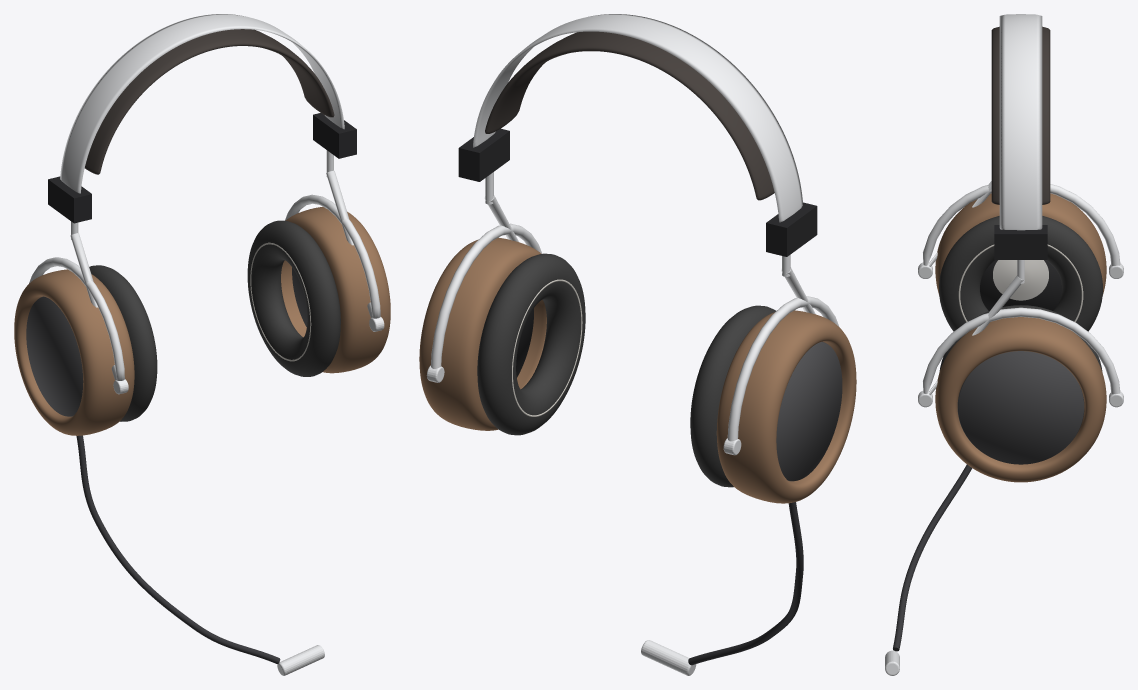
Rendered from one-high.glb.
3 views of the same model, side by side, from view 1: azimuth 30°, elevation 25°; view 2: azimuth 150°, elevation 25°; view 3: azimuth 270°, elevation 25° (orthographic). The views are drawn at different scales.
Parts seen in each view (by area): view 1: cup_l, pad_r, cup_r, band_steel, band_leather, grille_l, pad_l, cable, yoke_r, yoke_l, block_l, block_r (+1 smaller); view 2: cup_l, pad_r, cup_r, band_steel, band_leather, grille_l, pad_l, yoke_r, yoke_l, block_l, block_r, cable (+1 smaller); view 3: grille_r, cup_r, band_steel, pad_l, cup_l, band_leather, yoke_r, yoke_l, block_r, driver_l, baffle_l, cable (+2 smaller).
Boxes of the visible parts, <box> form: cup_l: <box>14,269,134,435</box>; pad_r: <box>247,220,340,376</box>; cup_r: <box>281,207,390,373</box>; band_steel: <box>60,14,344,193</box>; band_leather: <box>85,29,334,174</box>; grille_l: <box>26,296,83,416</box>; pad_l: <box>89,265,157,421</box>; cable: <box>76,435,280,663</box>; yoke_r: <box>285,170,380,318</box>; yoke_l: <box>29,233,124,380</box>; block_l: <box>48,176,91,223</box>; block_r: <box>313,113,356,158</box>; cup_l: <box>716,310,856,503</box>; pad_r: <box>477,253,585,435</box>; cup_r: <box>419,237,546,430</box>; band_steel: <box>473,14,802,222</box>; band_leather: <box>485,31,774,200</box>; grille_l: <box>776,341,842,481</box>; pad_l: <box>690,305,775,487</box>; yoke_r: <box>431,195,542,368</box>; yoke_l: <box>727,267,839,441</box>; block_l: <box>766,202,817,256</box>; block_r: <box>458,128,509,181</box>; cable: <box>688,502,803,665</box>; grille_r: <box>957,351,1084,464</box>; cup_r: <box>935,317,1106,482</box>; band_steel: <box>999,14,1042,230</box>; pad_l: <box>939,216,1102,331</box>; cup_l: <box>935,193,1106,295</box>; band_leather: <box>991,26,1050,204</box>; yoke_r: <box>923,275,1120,395</box>; yoke_l: <box>923,181,1120,266</box>; block_r: <box>994,225,1047,259</box>; driver_l: <box>993,260,1048,300</box>; baffle_l: <box>980,260,1061,310</box>; cable: <box>893,464,972,651</box>.
Size of the model in its own units: 0.2027 by 0.3878 by 0.1339.
